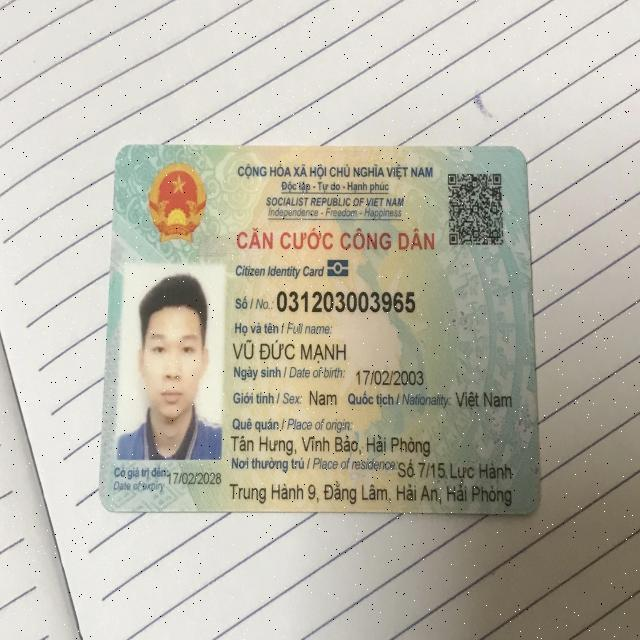current_place: (226, 483, 515, 510), (397, 458, 514, 484)
dob: (353, 366, 424, 389)
expire_date: (167, 465, 220, 486)
gender: (310, 385, 336, 412)
id: (275, 285, 420, 317)
name: (234, 336, 349, 362)
nationality: (455, 386, 513, 412)
origin_place: (230, 430, 431, 460)
qr: (446, 164, 508, 250)
